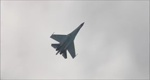maybay_muctieu: (50, 21, 85, 60)
